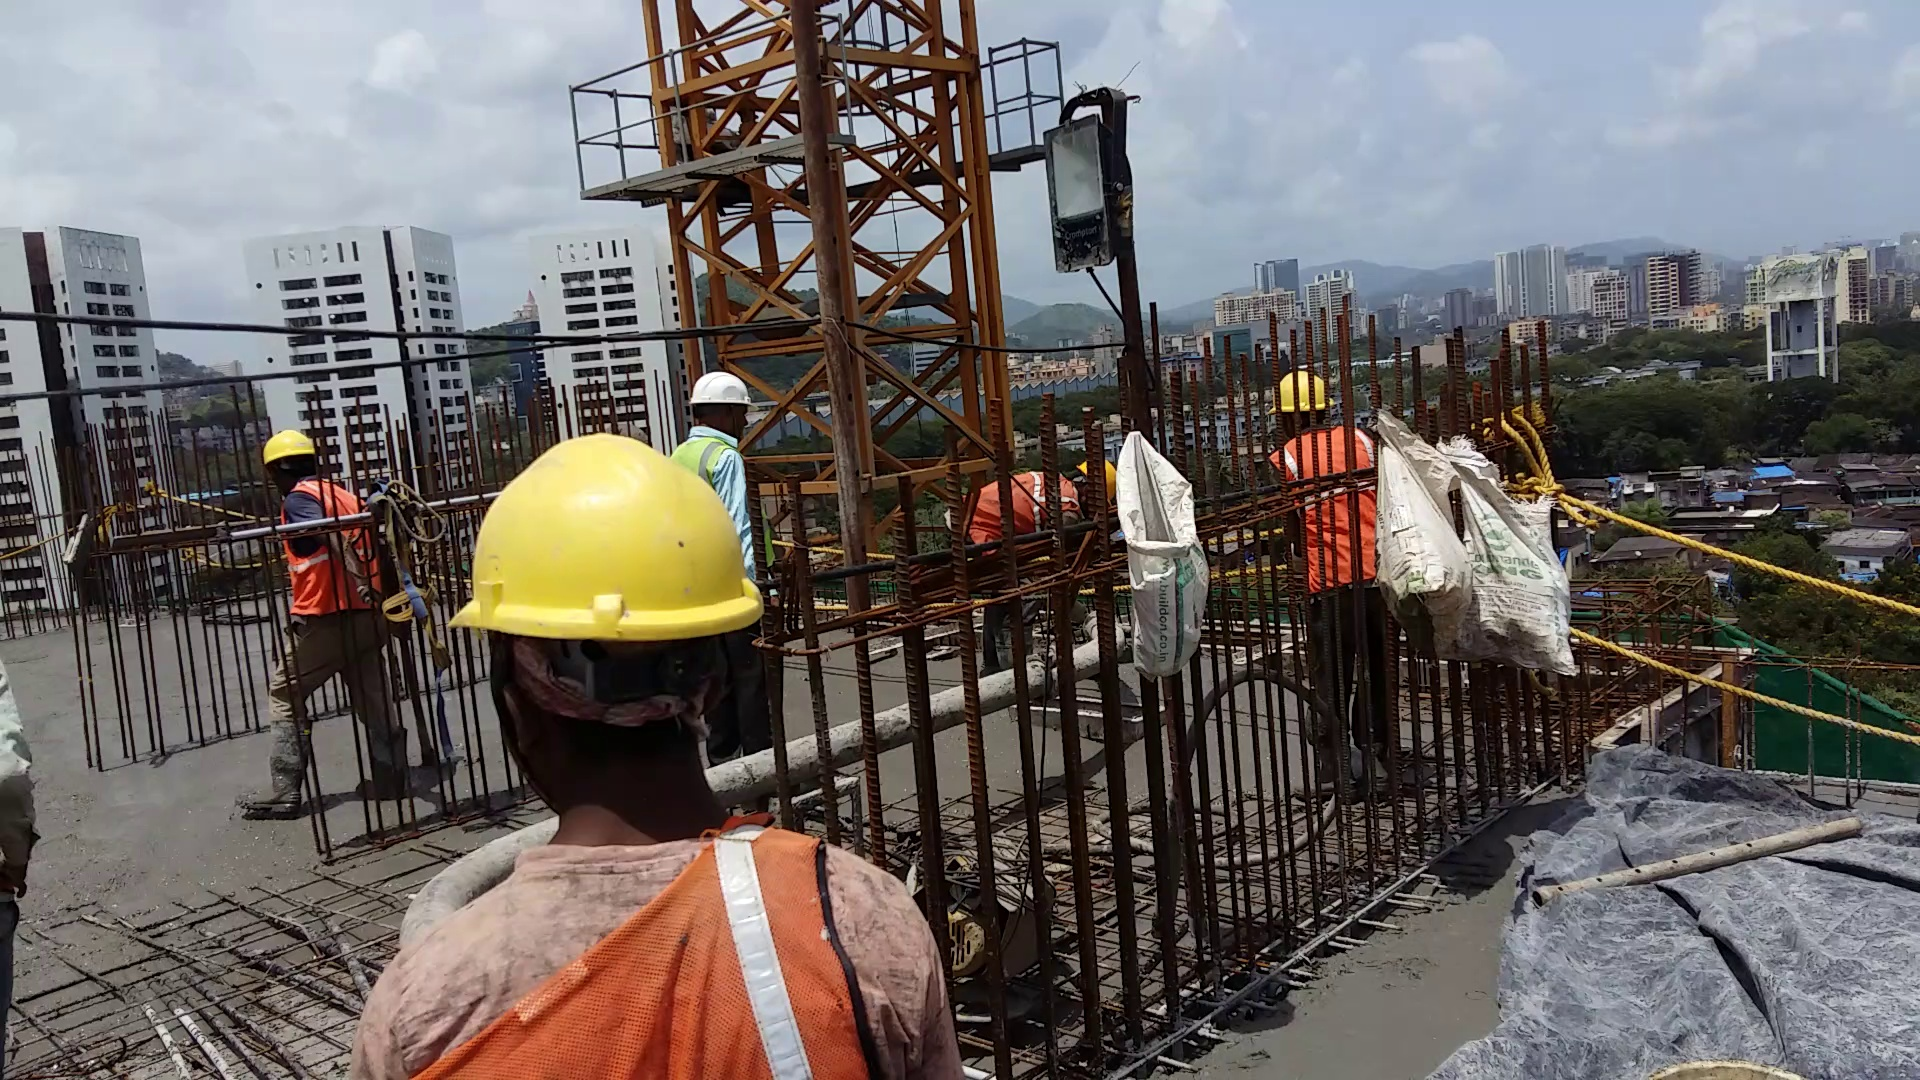SAFE: (448, 442, 828, 1080), (277, 426, 328, 626), (680, 371, 746, 498)
